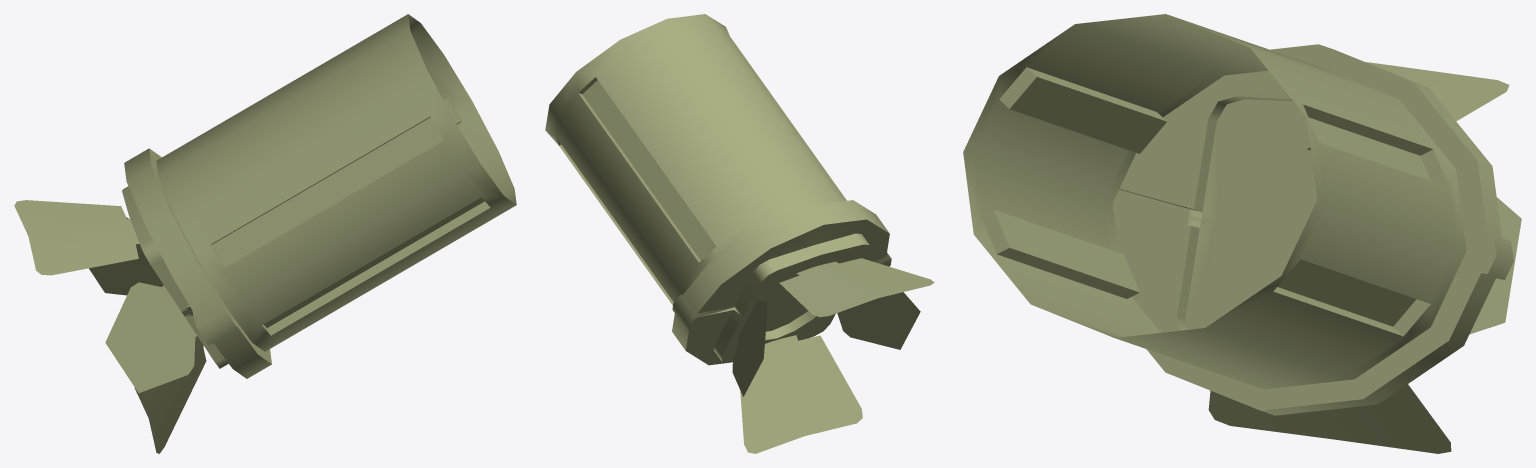
File: Searchlight.fbx
The picture shows the model from 3 angles, left to right: view 1: azimuth 30°, elevation 25°; view 2: azimuth 150°, elevation 25°; view 3: azimuth 270°, elevation 25°; orthographic projection. The views are drawn at different scales.
Parts seen in each view (by area): view 1: Searchlight; view 2: Searchlight; view 3: Searchlight.
Boxes of the visible parts, <box> form: Searchlight: <box>14,14,516,453</box>; Searchlight: <box>545,14,934,453</box>; Searchlight: <box>963,14,1521,453</box>.
Bounding box in the file's own units: 676 × 566 × 488.
